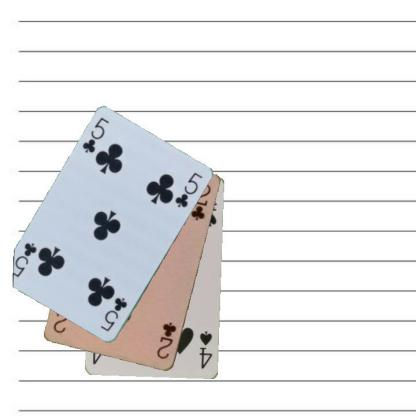2c: (154, 320, 178, 360)
4s: (196, 329, 214, 370)
5c: (80, 115, 111, 155), (97, 296, 128, 334)
